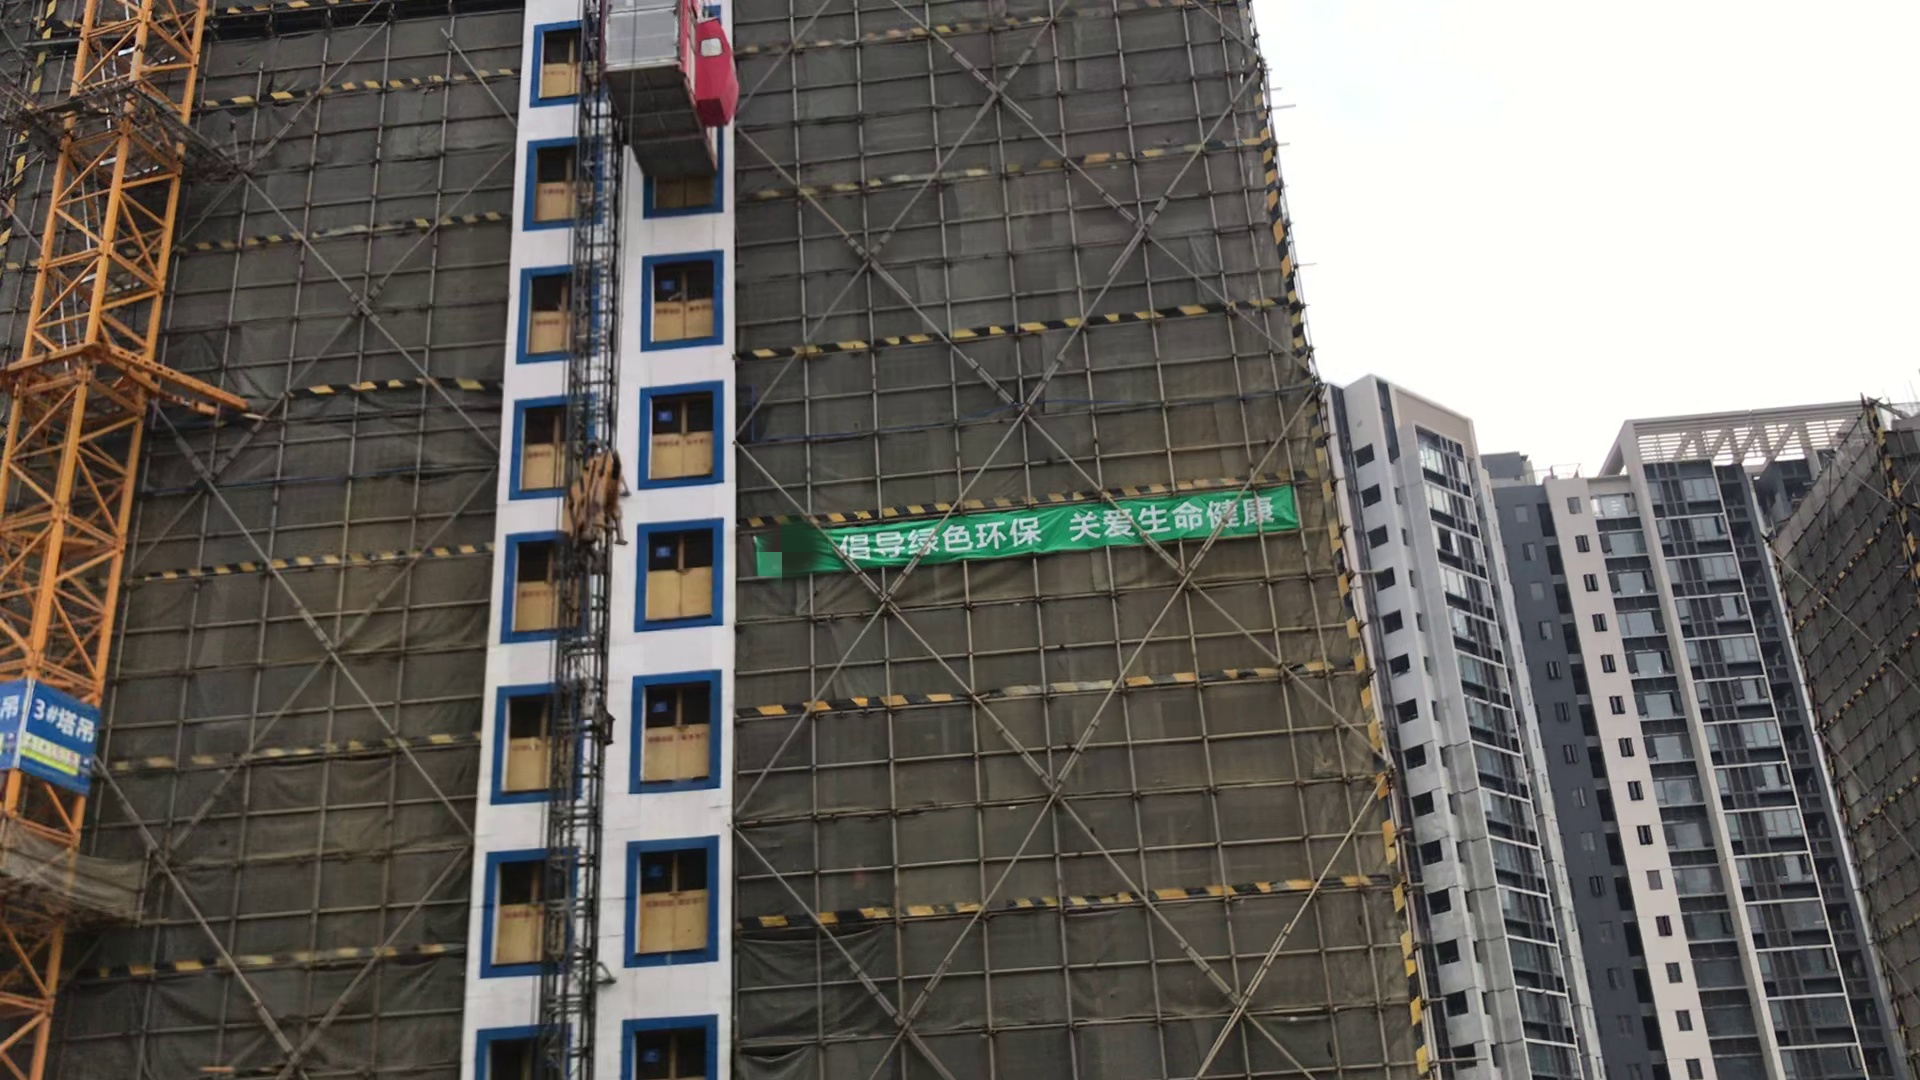hook: (555, 436, 633, 564)
slogan: (812, 480, 1308, 574), (1, 669, 103, 808)
